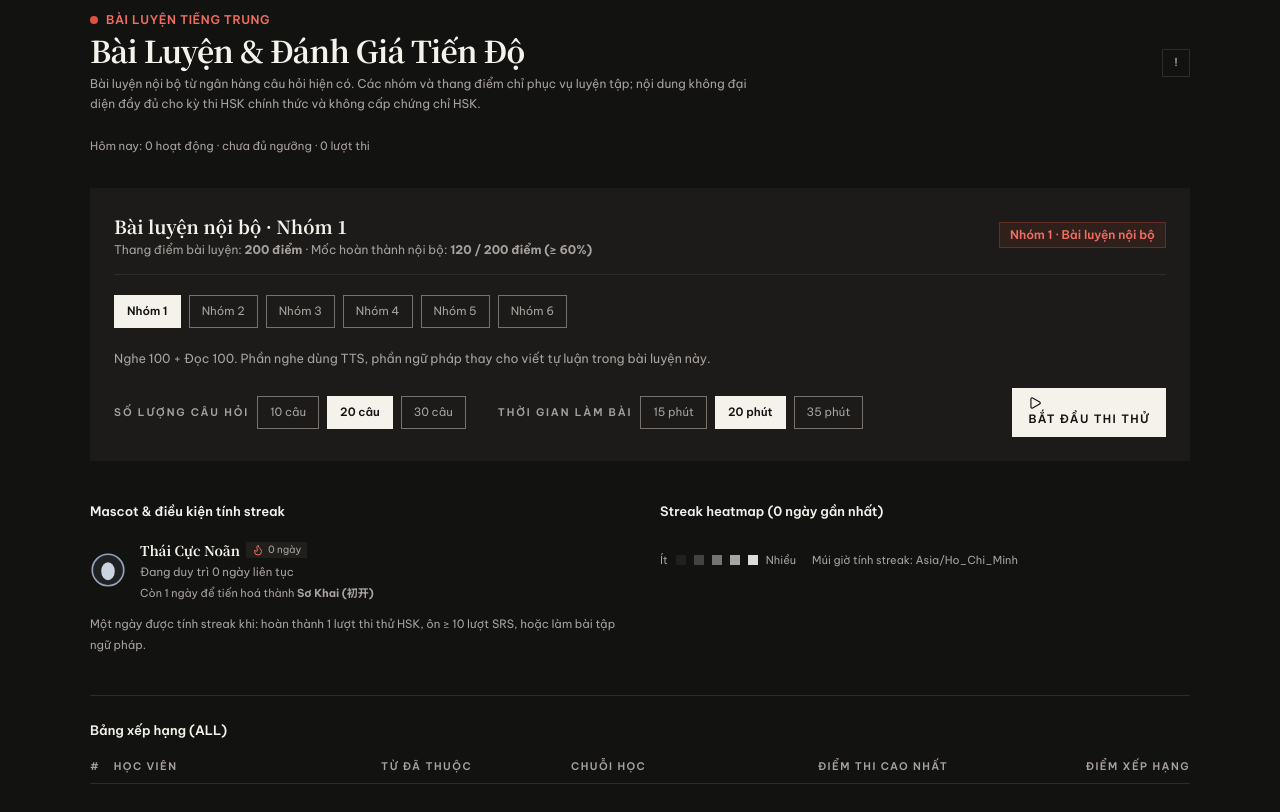
Scenario: speech status unsupported gives accessible recovery without changing the attempt
What coordinates should you click on to do the following:
click the button "Bắt đầu thi thử"
I would click on:
 (1089, 413)
Its box is left=1012, top=388, right=1166, bottom=437.
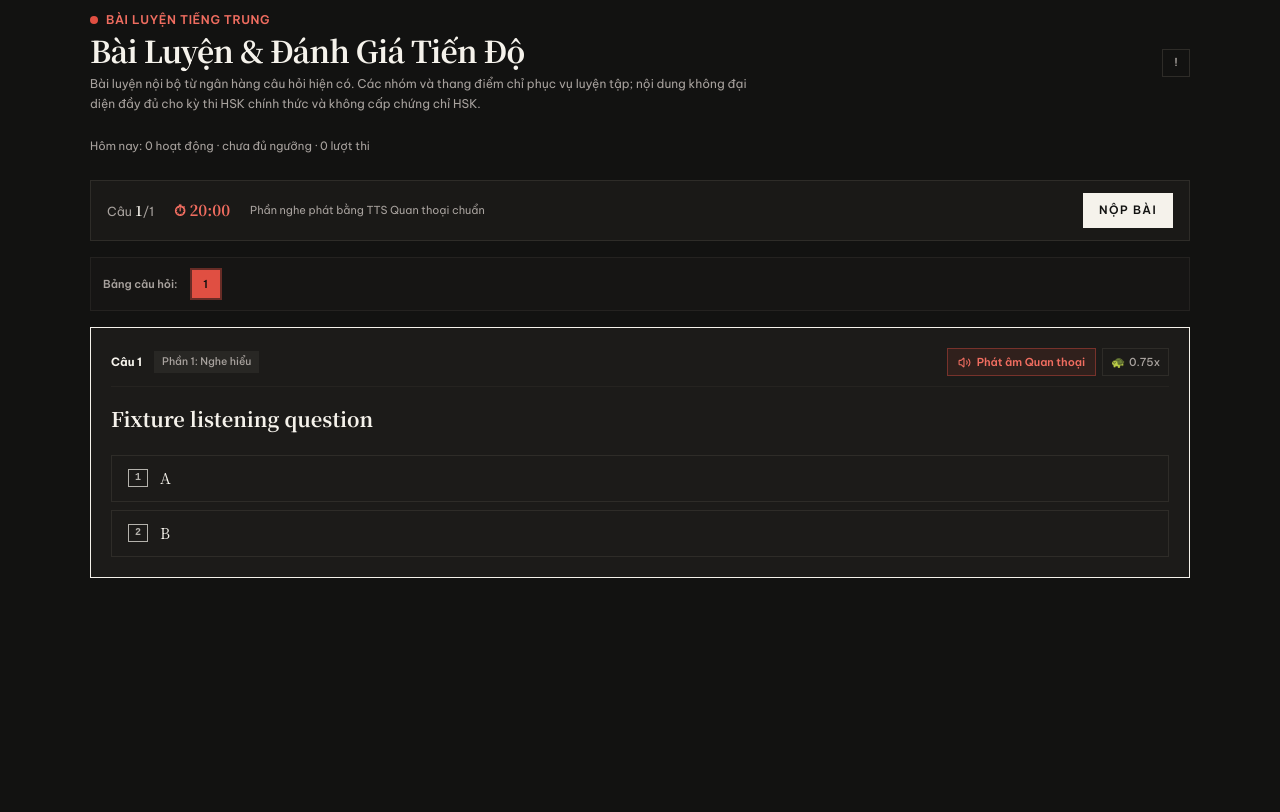
Check: the text "Fixture listening question" is shown, box left=111, top=404, right=373, bottom=433
What coordinates should you click on to do the following:
click the button "Phát âm Quan thoại"
I would click on:
 (1021, 362)
Its box is left=947, top=348, right=1096, bottom=376.
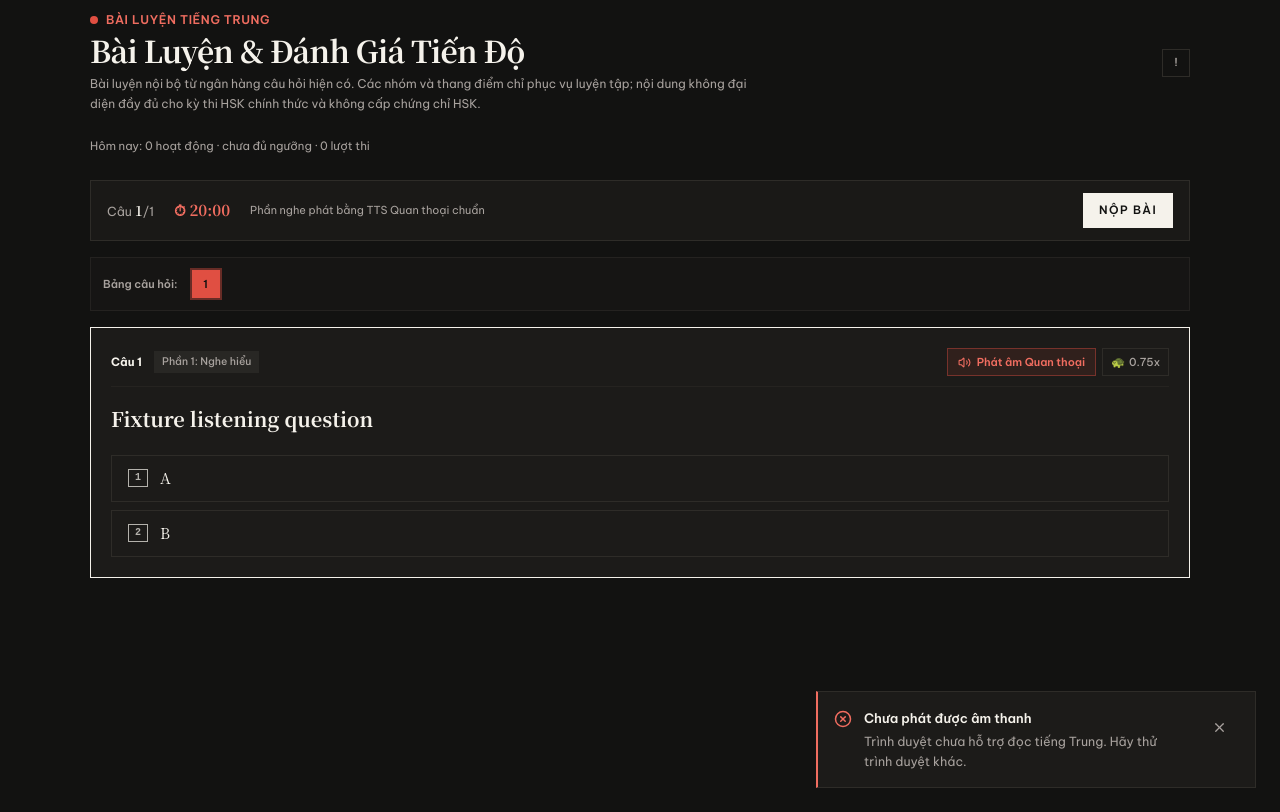
Check: the message shows "Trình duyệt chưa hỗ trợ", box left=864, top=733, right=1157, bottom=769
